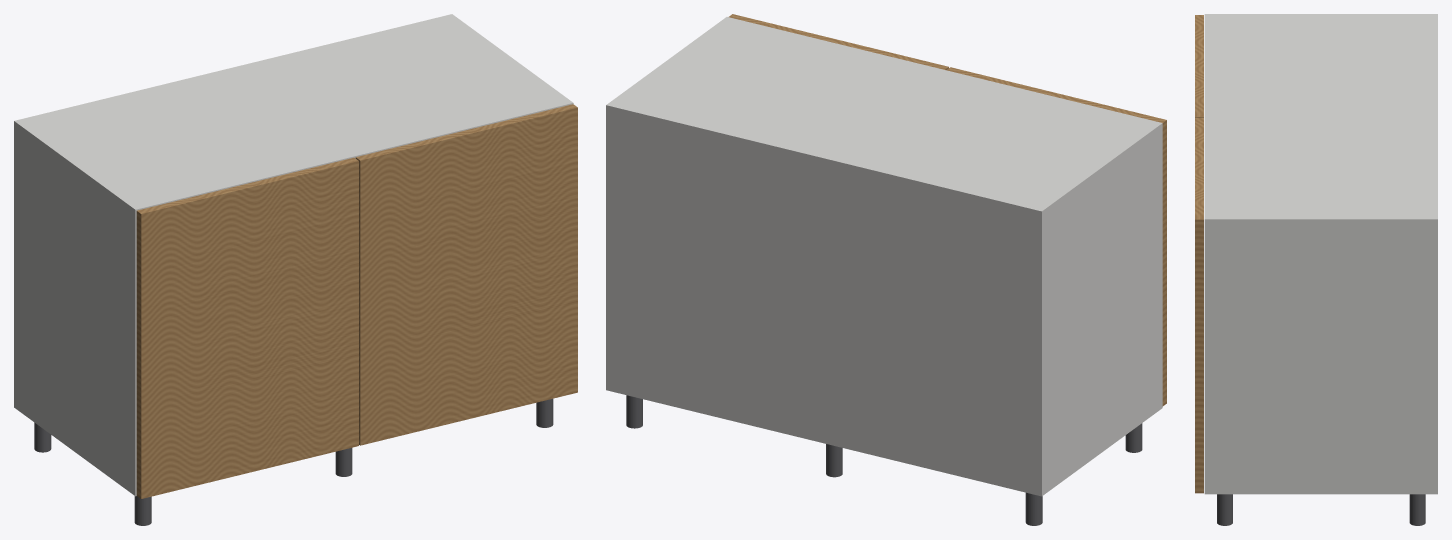
File: w1200_onset_pair_closed.glb
The picture shows the model from 3 angles, left to right: view 1: azimuth 30°, elevation 25°; view 2: azimuth 150°, elevation 25°; view 3: azimuth 270°, elevation 25°; orthographic projection. The views are drawn at different scales.
Visible parts, largest first — view 1: oak, white, leg; view 2: white, oak, leg; view 3: white, oak, leg.
Boxes of the visible parts, x1=… form: oak: x1=136, y1=104, x2=577, y2=498; white: x1=14, y1=14, x2=573, y2=496; leg: x1=34, y1=398, x2=553, y2=525; white: x1=606, y1=17, x2=1162, y2=496; oak: x1=729, y1=14, x2=1166, y2=406; leg: x1=626, y1=395, x2=1142, y2=525; white: x1=1204, y1=14, x2=1437, y2=494; oak: x1=1195, y1=15, x2=1203, y2=493; leg: x1=1217, y1=494, x2=1425, y2=525.
Bounding box in the file's own units: 1.2 × 0.85 × 0.6.
3 materials, 1 textured.
